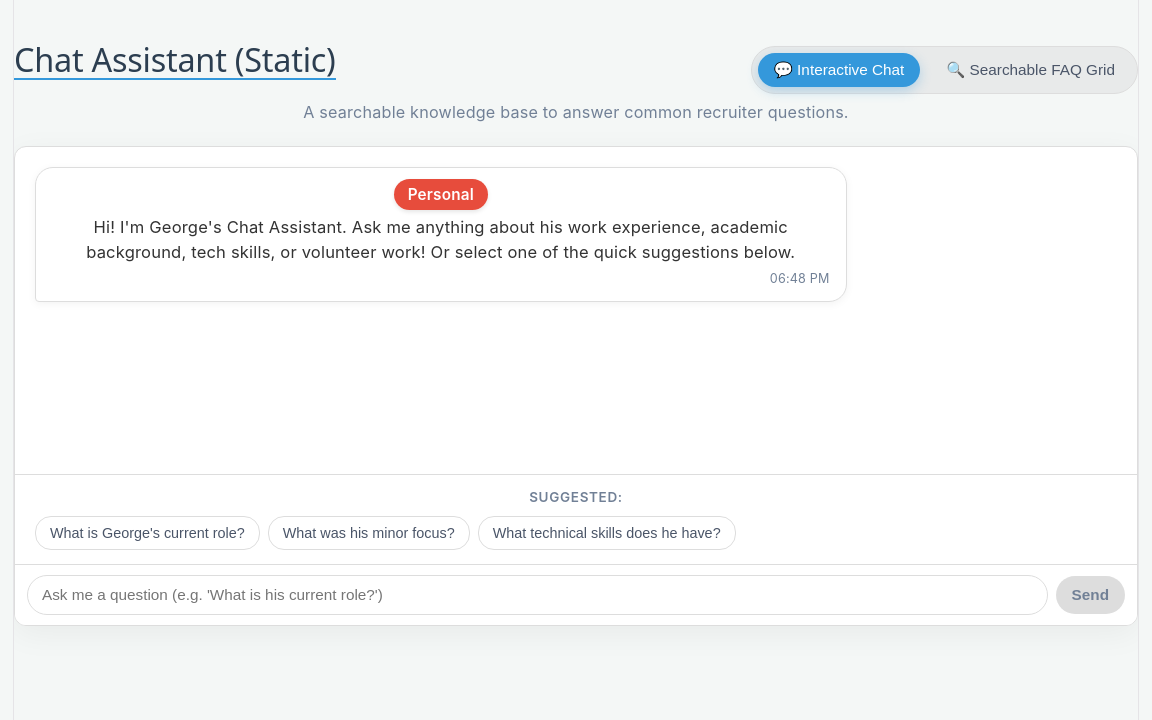
Test: CareerAssistant Component › responds intelligently to suggestion chips
Click the button "What is George's current role?" at (147, 533), box [35,516,260,550]
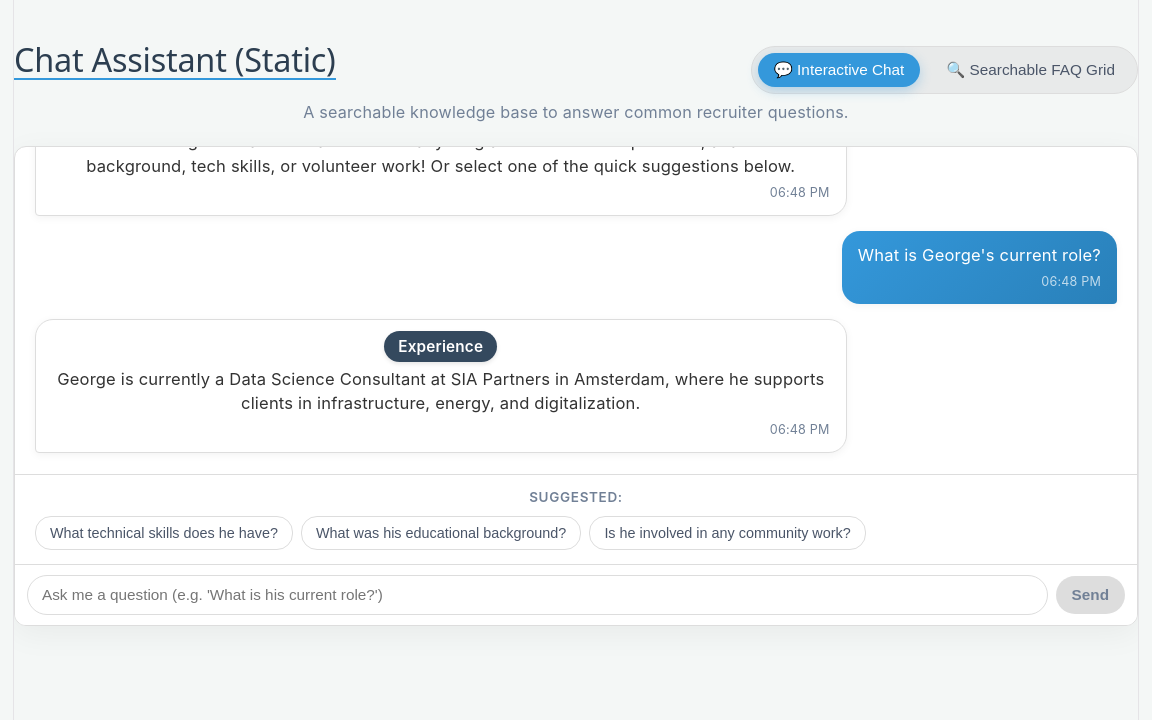
Expected: the text "What is George's current role?" is shown, [858,243,1101,268]
Expected: the text "SIA Partners" is shown, [57,369,824,413]
